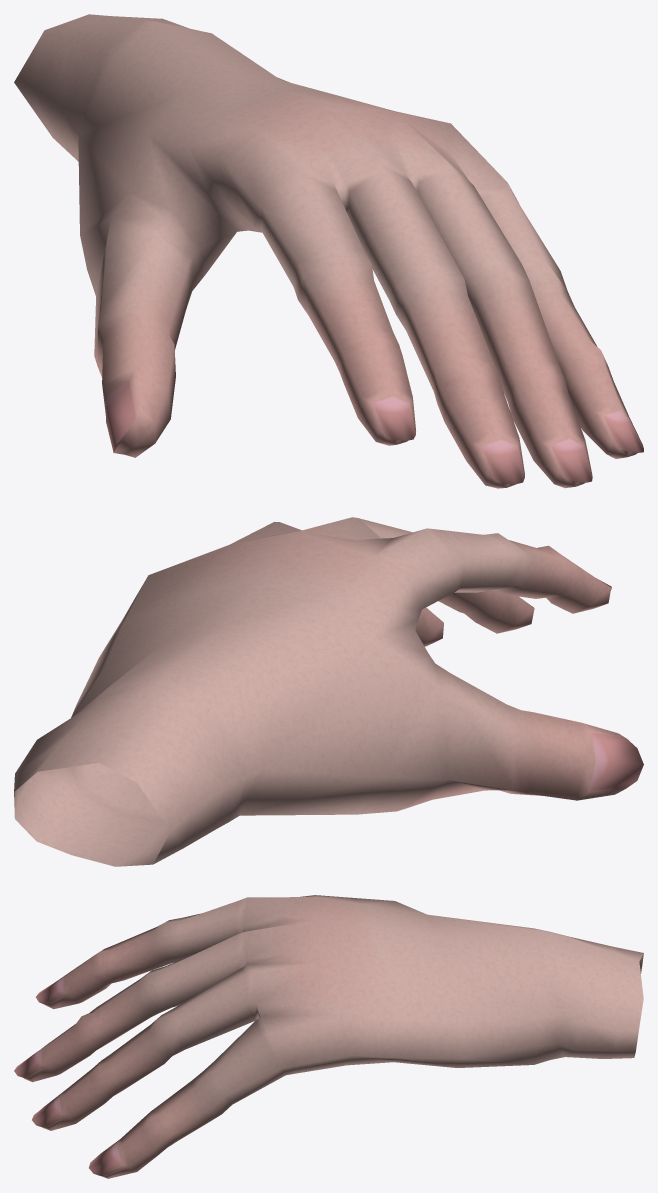
File: free_stylized_hand_lowpoly.glb
3 renders of one model, top to bottom at view 1: azimuth 30°, elevation 25°; view 2: azimuth 150°, elevation 25°; view 3: azimuth 270°, elevation 25°, orthographic. The views are drawn at different scales.
Parts seen in each view (by area): view 1: geo_hand; view 2: geo_hand; view 3: geo_hand.
Part boxes in pixels (box(x1,y1,x2,y2)): geo_hand: box(14, 14, 643, 488); geo_hand: box(14, 517, 643, 866); geo_hand: box(14, 895, 643, 1178).
Size of the model in its own units: 0.2644 by 0.1577 by 0.4386.
Materials: 1 (1 with a texture image).
